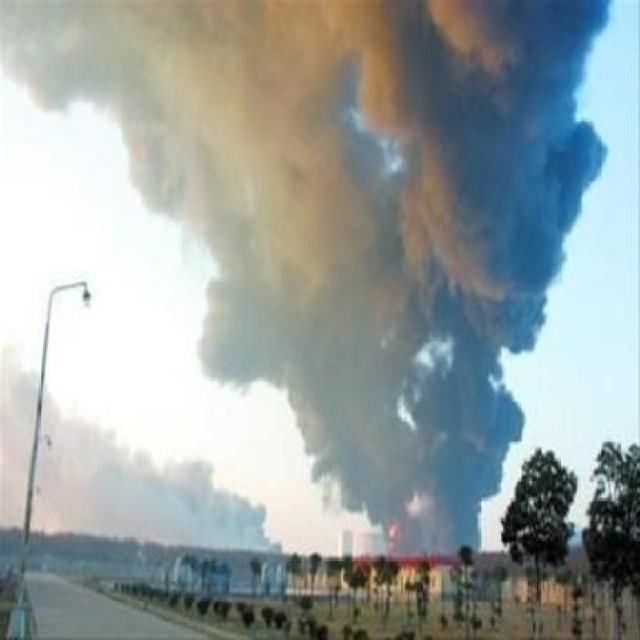Fire: (378, 514, 411, 557)
Smoke: (43, 2, 606, 508), (414, 506, 488, 560)
